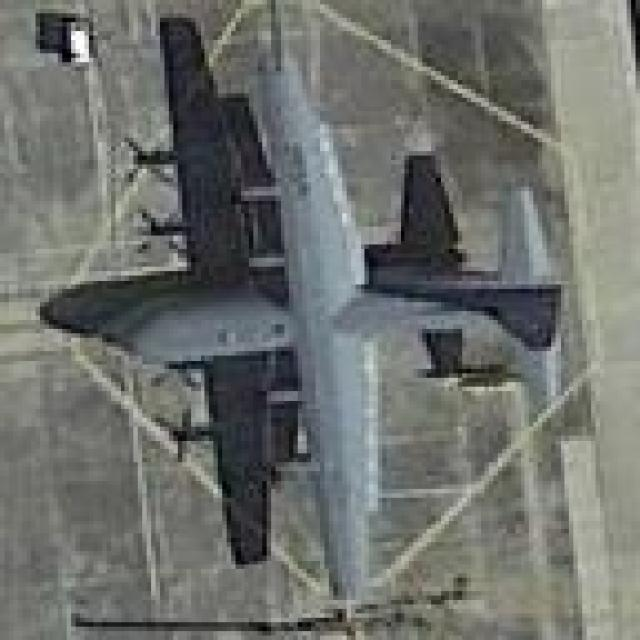C-130_TopDown: (34, 15, 583, 612)
